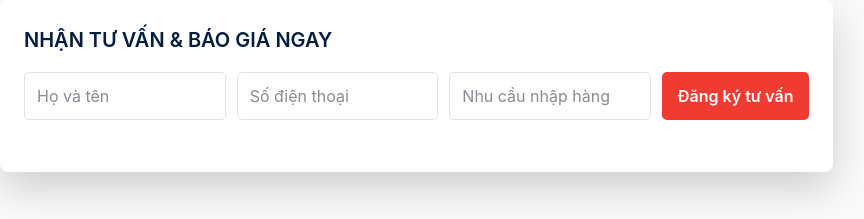
Test: QuoteForm › disables the sending action and prevents a duplicate request while pending
The width and height of the screenshot is (864, 219).
In the field labelled "Họ và tên": (125, 96) [24,72,226,120], type "Nguyễn Văn A"
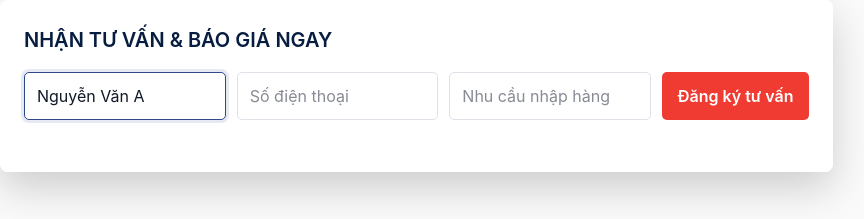
In the field labelled "Số điện thoại": (338, 96) [237,72,438,120], type "090 123 4567"
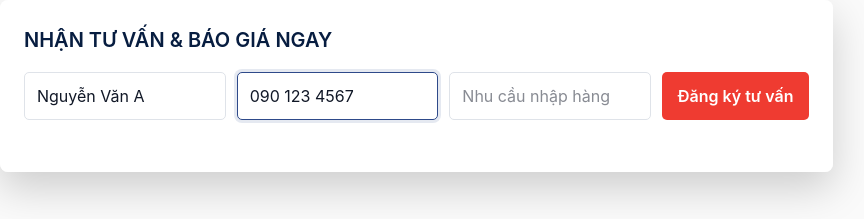
In the field labelled "Nhu cầu nhập hàng": (550, 96) [449,72,651,120], type "Nhập linh kiện"
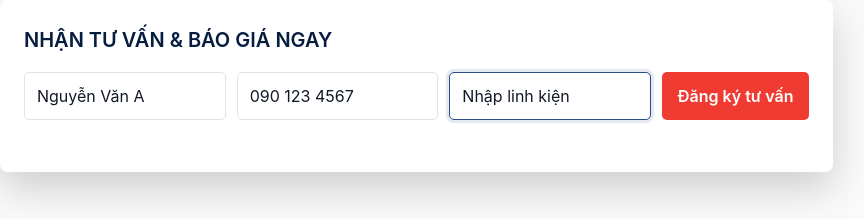
Click the button "Đăng ký tư vấn": (736, 96) [662,72,809,120]
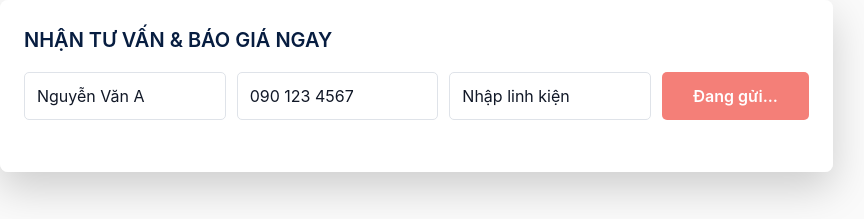
Expected: the button "Đang gửi..." is disabled
Click the button "Đang gửi...": (736, 96) [662,72,809,120]
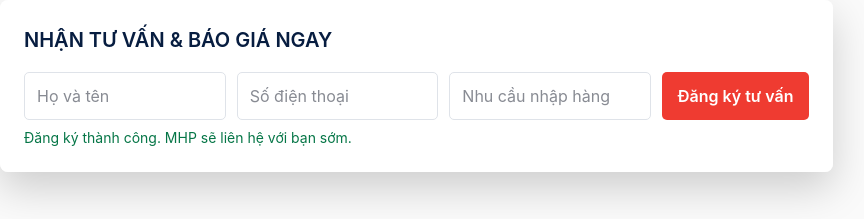
Expected: the text "Đăng ký thành công. MHP sẽ liên hệ với bạn sớm." is shown, [24,129,352,146]
